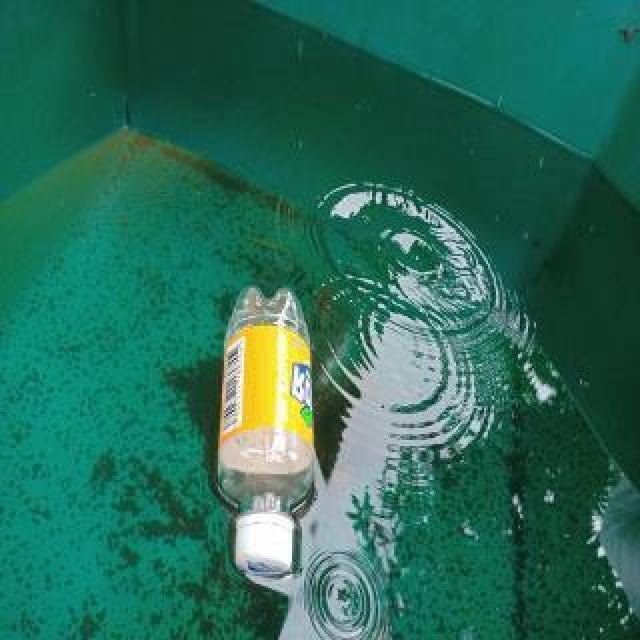Bottle: (206, 278, 324, 588)
